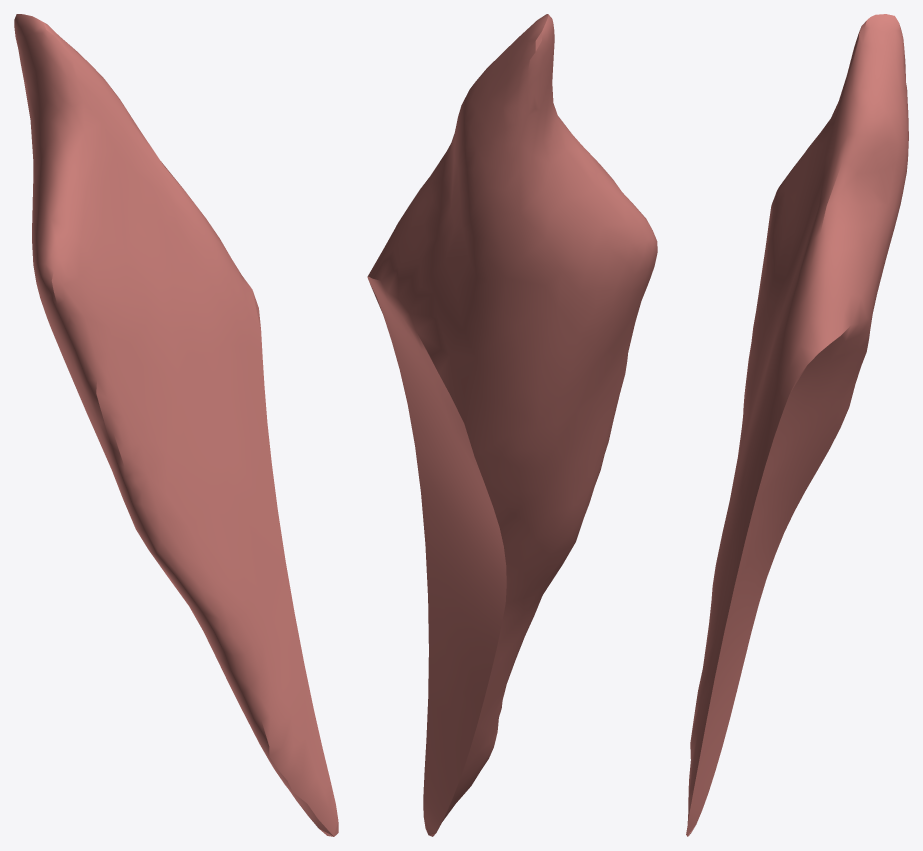
Rendered from fma40811-n_mm1858m.glb.
3 views of the same model, side by side, from view 1: azimuth 30°, elevation 25°; view 2: azimuth 150°, elevation 25°; view 3: azimuth 270°, elevation 25° (orthographic). The views are drawn at different scales.
Visible parts, largest first — view 1: FMA40811-N_MM1858M; view 2: FMA40811-N_MM1858M; view 3: FMA40811-N_MM1858M.
Boxes of the visible parts, x1=… form: FMA40811-N_MM1858M: x1=14, y1=14, x2=338, y2=836; FMA40811-N_MM1858M: x1=367, y1=14, x2=657, y2=836; FMA40811-N_MM1858M: x1=686, y1=14, x2=908, y2=836.
Bounding box in the file's own units: 0.0158 × 0.0492 × 0.0136.
